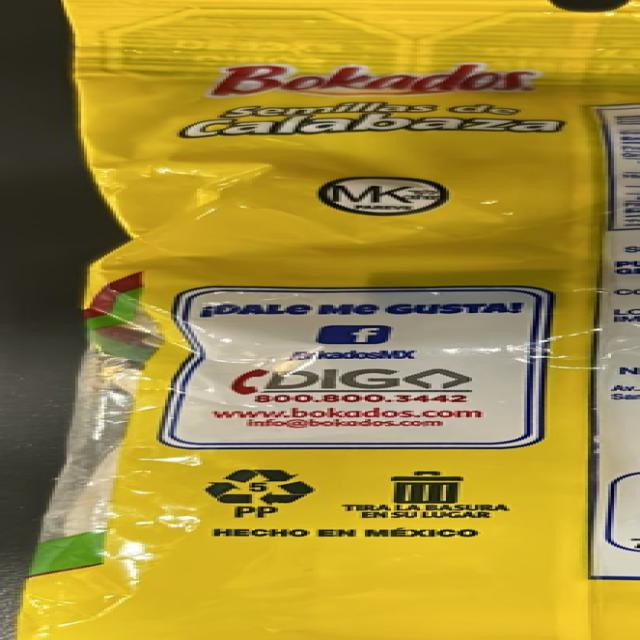productoAtras: (83, 4, 625, 640)
